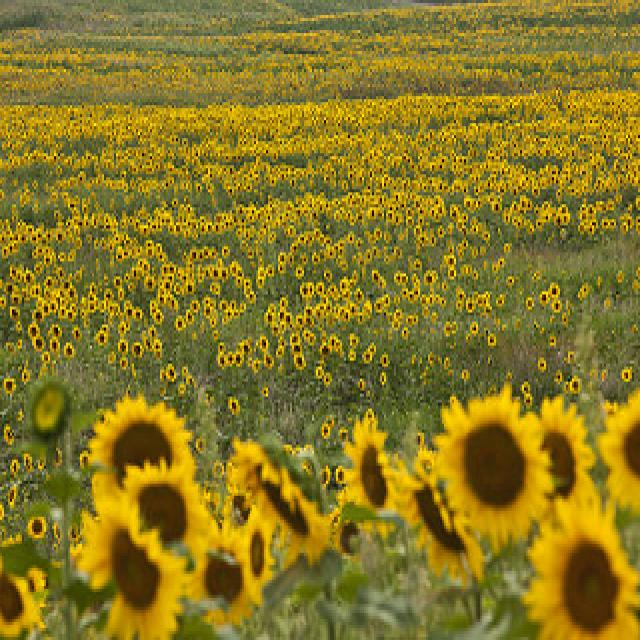sunflower: (439, 384, 551, 548), (81, 493, 178, 640), (231, 431, 331, 572), (536, 505, 640, 640), (92, 403, 198, 477), (341, 417, 396, 519)
